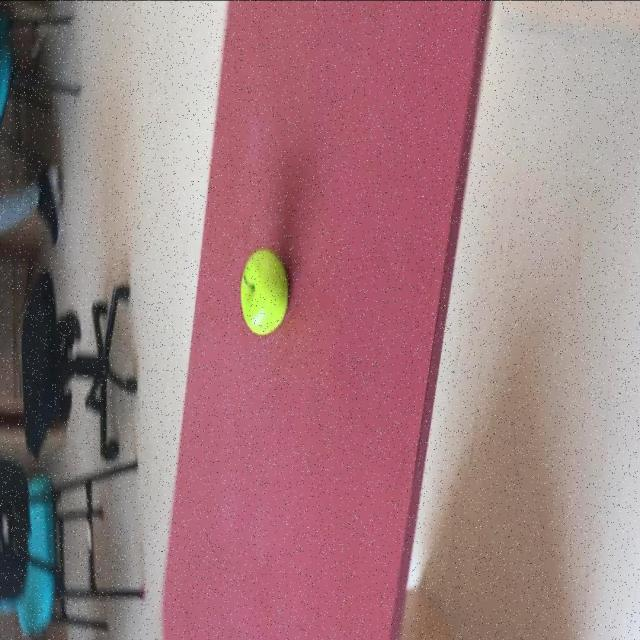Apple: (238, 246, 288, 334)
